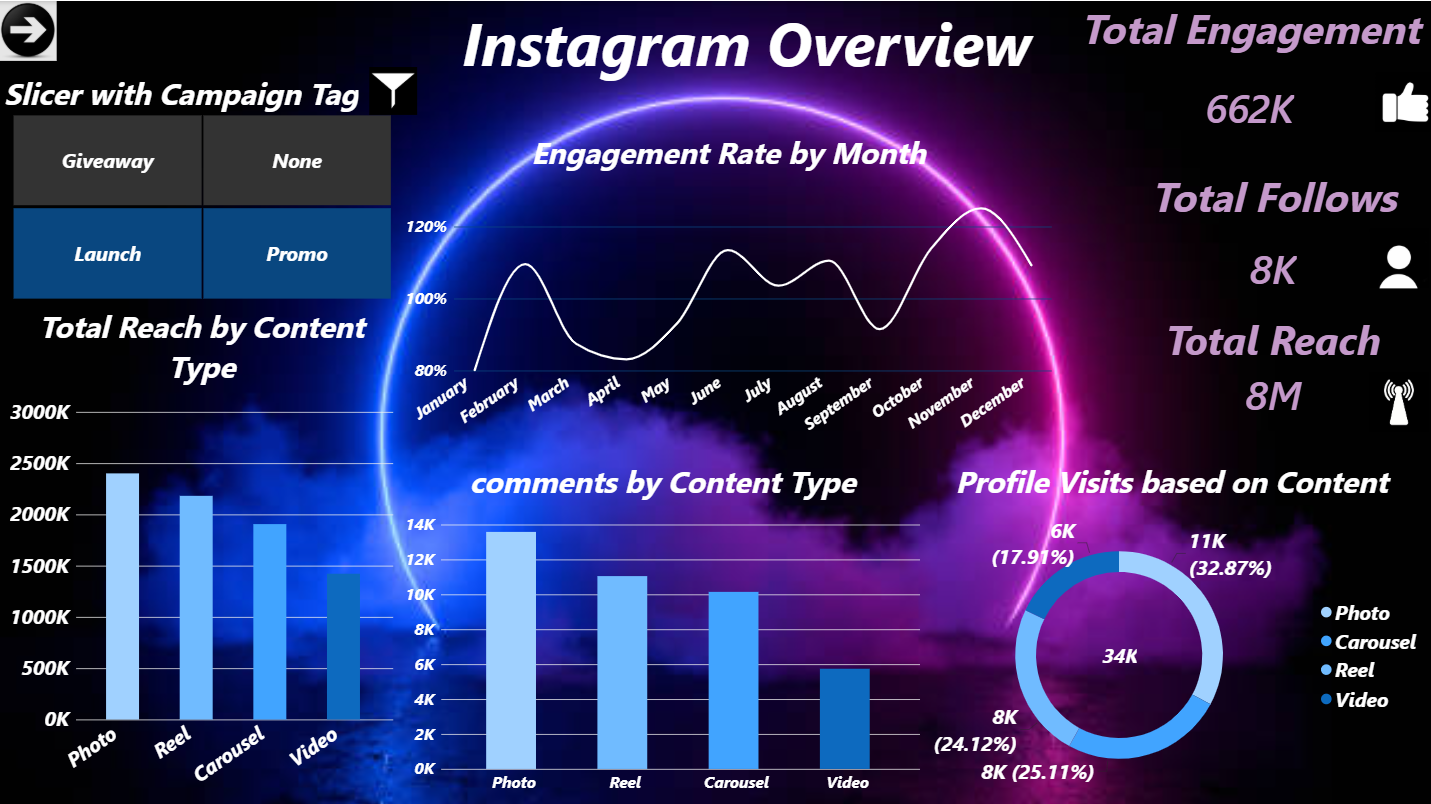

The page's visual inventory and layout, read from the dashboard file:
{"tool":"powerbi","page":{"name":"Instagram Overview","canvas":[1920,1080],"ordinal":0},"visuals":[{"type":"cardVisual","fields":{"Data":["Sheet1.Total Reach"]},"box":[1488,368,432,240],"z":0},{"type":"cardVisual","title":"Total Engagement","fields":{"Data":["Sheet1.Total_Engagement"]},"box":[1424,0,496,192],"z":1000},{"type":"cardVisual","title":"Total Follows","fields":{"Data":["Sheet1.Total_Follows"]},"box":[1488,224,432,176],"z":2000},{"type":"columnChart","title":"Total Reach by Content Type","fields":{"Series":["Sheet1.Content_Type"],"Y":["Sheet1.Total Reach"],"Category":["Sheet1.Content_Type"]},"box":[0,392,544,688],"z":3000},{"type":"clusteredColumnChart","title":"comments by Content Type","fields":{"Category":["Sheet1.Content_Type"],"Y":["Sum(Sheet1.Comments)"]},"box":[528,600,720,480],"z":4000},{"type":"lineChart","title":" Engagement Rate by Month","fields":{"Category":["Sheet1.Post Date.Variation.Date Hierarchy.Month"],"Y":["Sheet1.Engagement Rate"]},"box":[528,160,896,448],"z":5000},{"type":"donutChart","title":"Profile Visits based on Content","fields":{"Y":["Sum(Sheet1.Profile_Visits)"],"Category":["Sheet1.Content_Type"]},"box":[1216,600,704,480],"z":6000},{"type":"slicer","fields":{"Values":["Sheet1.Campaign_Tag"]},"box":[0,96,544,304],"z":7000},{"type":"textbox","box":[576,0,848,224],"z":8000},{"type":"image","box":[1840,96,80,80],"z":9000},{"type":"image","box":[1824,304,96,80],"z":10000},{"type":"image","box":[1824,496,96,80],"z":11000},{"type":"image","box":[0,0,80,80],"z":12000},{"type":"image","box":[496,80,64,80],"z":13000}]}

Visuals, with their boxes in screenshot pixels (x1, y1, x2, y2), scaled from the page's 1920x1080 canvas onto the 1431x804 screenshot:
cardVisual - Sheet1.Total Reach: select_region(1109, 274, 1430, 453)
"Total Engagement" cardVisual: select_region(1061, 0, 1430, 143)
"Total Follows" cardVisual: select_region(1109, 167, 1430, 298)
"Total Reach by Content Type" columnChart: select_region(0, 292, 405, 803)
"comments by Content Type" clusteredColumnChart: select_region(394, 447, 930, 803)
" Engagement Rate by Month" lineChart: select_region(394, 119, 1061, 453)
"Profile Visits based on Content" donutChart: select_region(906, 447, 1430, 803)
slicer - Sheet1.Campaign_Tag: select_region(0, 71, 405, 298)
textbox: select_region(429, 0, 1061, 167)
image: select_region(1371, 71, 1430, 131)
image: select_region(1359, 226, 1430, 286)
image: select_region(1359, 369, 1430, 429)
image: select_region(0, 0, 60, 60)
image: select_region(370, 60, 417, 119)
